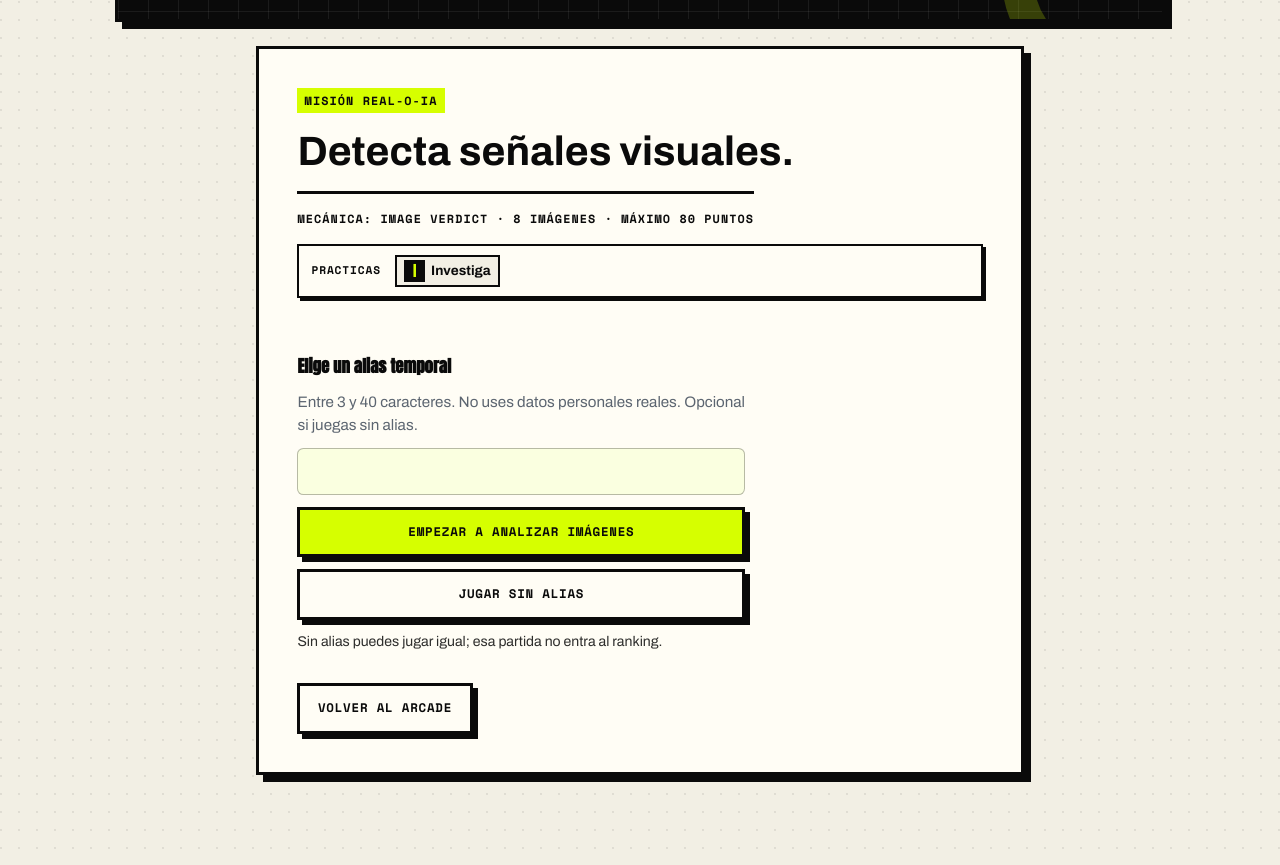
Scenario: ArcadePlaySession › inicia sin alias aplicando el estado de la acción (sin redirect)
(page scrolled)
Click the button "Jugar sin alias" at (521, 595), box [297,569,745,620]
(page scrolled)
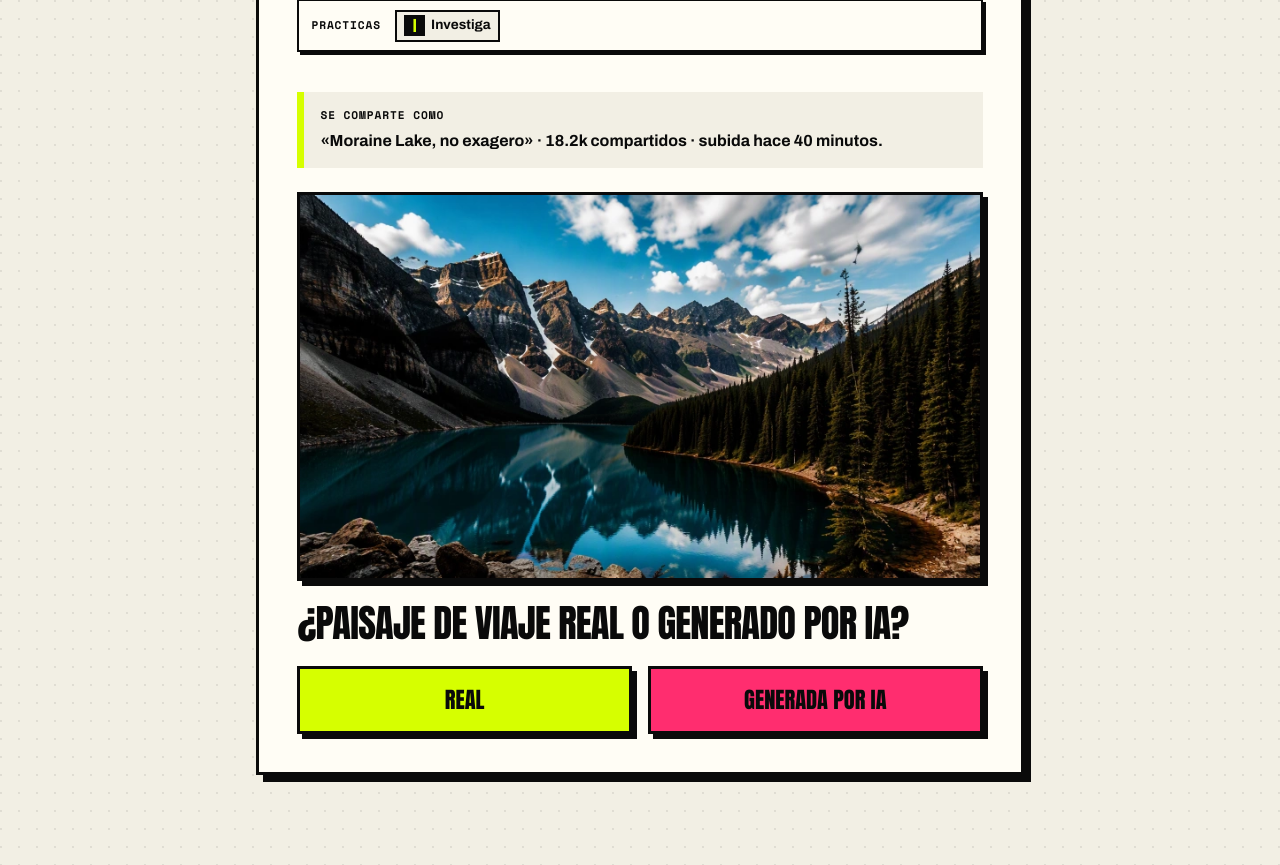
Expected: the button "Generada por IA" is shown, [648,666,983,734]
